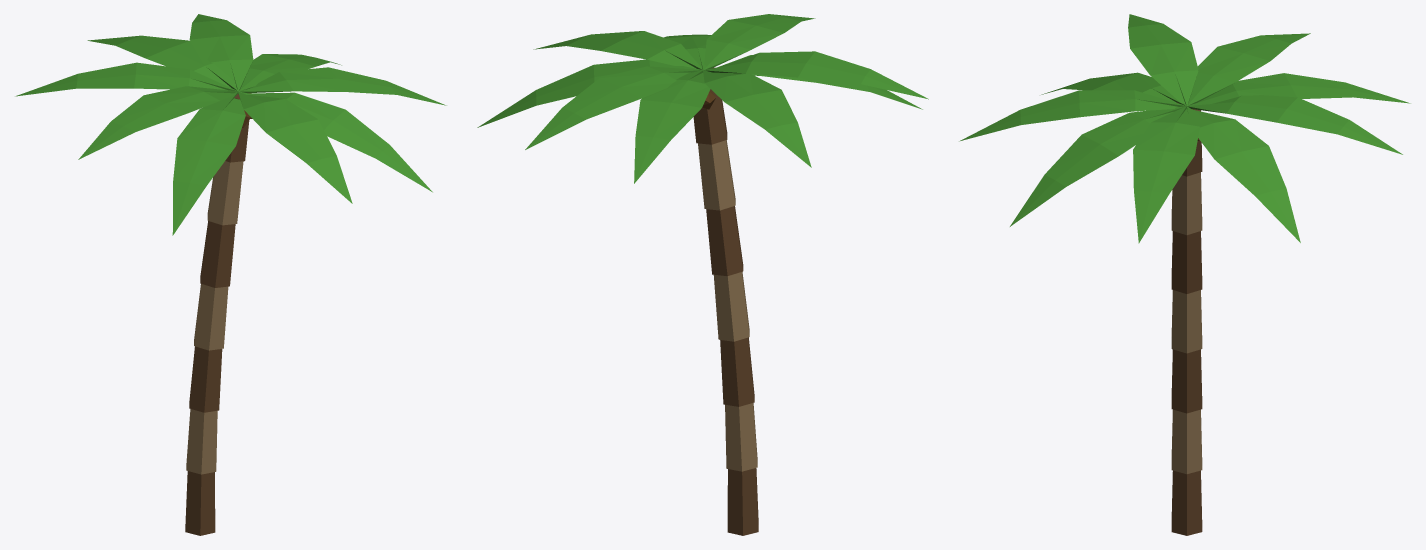
Rendered from palm.glb.
3 renders of one model, left to right at view 1: azimuth 30°, elevation 25°; view 2: azimuth 150°, elevation 25°; view 3: azimuth 270°, elevation 25°, orthographic. The views are drawn at different scales.
Parts seen in each view (by area): view 1: palm_leaf, bark-col, bark_light-col; view 2: palm_leaf, bark-col, bark_light-col; view 3: palm_leaf, bark-col, bark_light-col.
Part boxes in pixels (box(x1,y1,x2,y2)): palm_leaf: box(15, 14, 446, 235); bark-col: box(185, 93, 251, 535); bark_light-col: box(186, 161, 243, 474); palm_leaf: box(477, 14, 928, 183); bark-col: box(693, 67, 758, 535); bark_light-col: box(698, 140, 757, 471); palm_leaf: box(959, 14, 1410, 243); bark-col: box(1171, 102, 1202, 535); bark_light-col: box(1171, 172, 1202, 474).
Bounding box in the file's own units: 5.52 × 6.29 × 5.61.
